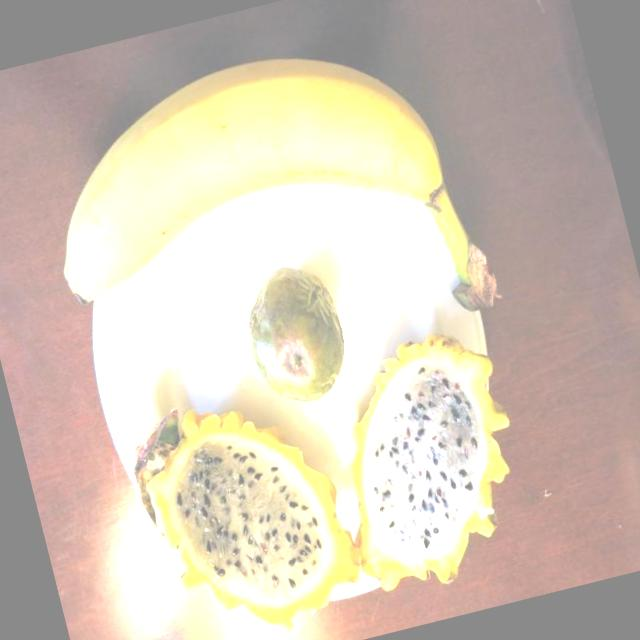Banana: (21, 18, 502, 406)
